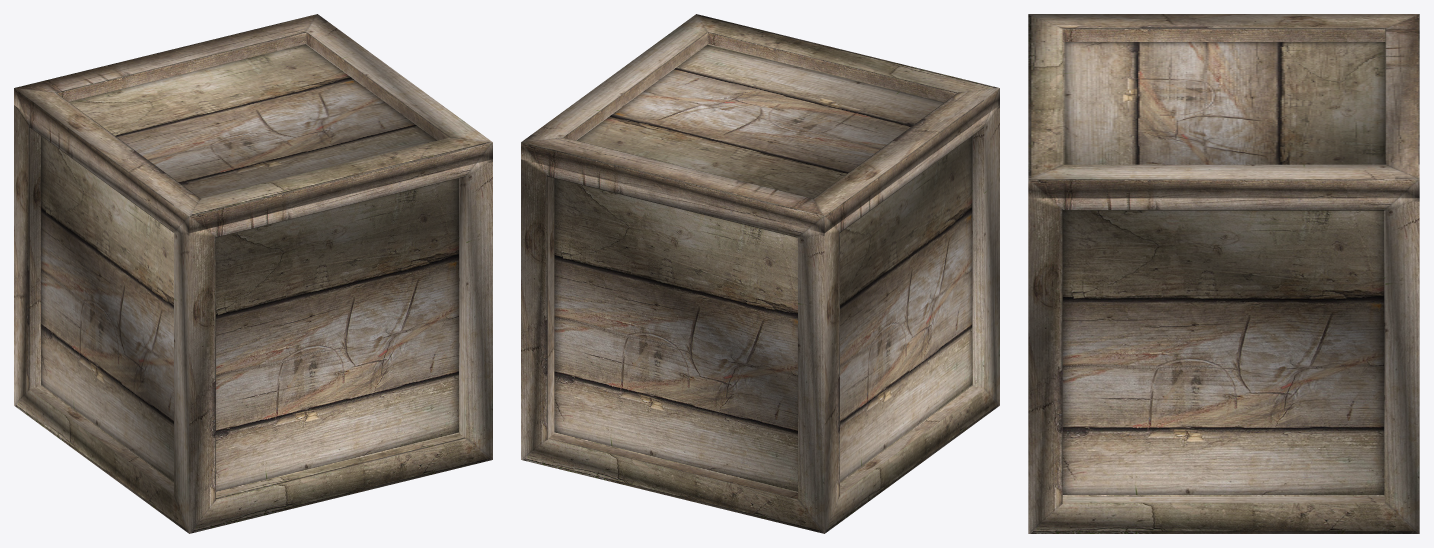
Rendered from UseCrate1.fbx.
3 renders of one model, left to right at view 1: azimuth 30°, elevation 25°; view 2: azimuth 150°, elevation 25°; view 3: azimuth 270°, elevation 25°, orthographic. The views are drawn at different scales.
Parts seen in each view (by area): view 1: Body, Cap; view 2: Body, Cap; view 3: Body, Cap.
Boxes of the visible parts, bbox=[...] form: Body: bbox=[14, 105, 492, 533]; Cap: bbox=[14, 14, 492, 233]; Body: bbox=[521, 105, 999, 533]; Cap: bbox=[521, 14, 999, 233]; Body: bbox=[1028, 198, 1419, 533]; Cap: bbox=[1028, 14, 1419, 198].
Bounding box in the file's own units: 12.5 × 12.5 × 12.5.
Materials: 1 (1 with a texture image).
